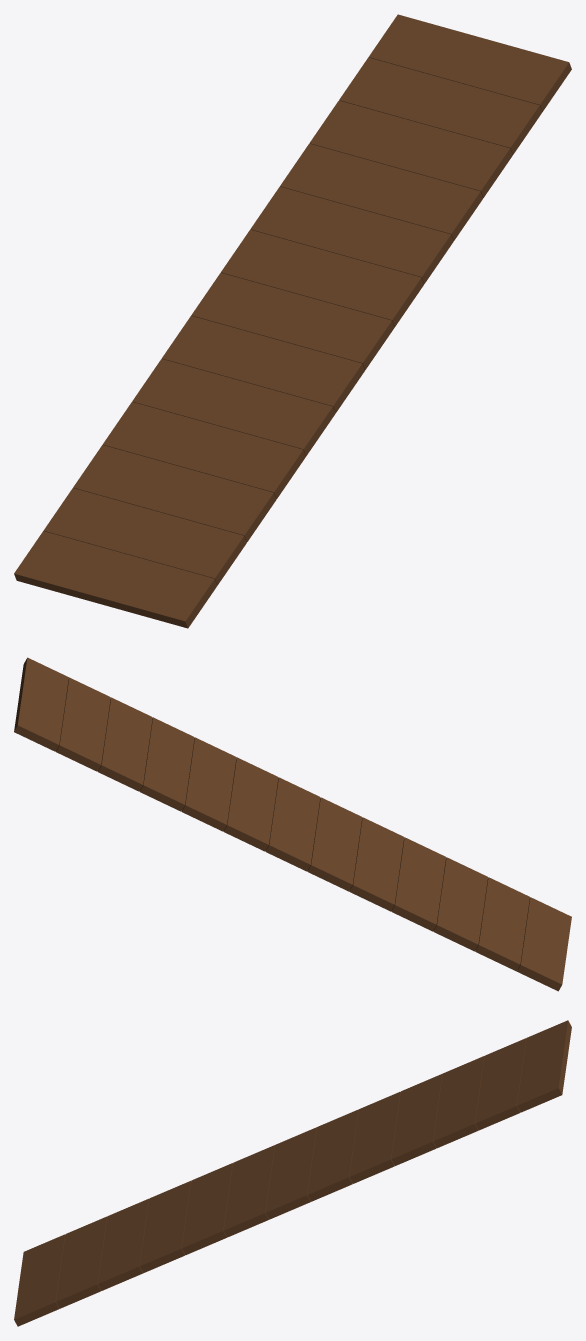
Rendered from Wooden_Stairs_003.fbx.
3 views of the same model, one above another, from view 1: azimuth 30°, elevation 25°; view 2: azimuth 150°, elevation 25°; view 3: azimuth 330°, elevation 25° (orthographic). The views are drawn at different scales.
Parts seen in each view (by area): view 1: Wooden Stairs.001; view 2: Wooden Stairs.001; view 3: Wooden Stairs.001.
Part boxes in pixels (x1=…): Wooden Stairs.001: x1=14, y1=14, x2=571, y2=628; Wooden Stairs.001: x1=14, y1=657, x2=571, y2=991; Wooden Stairs.001: x1=14, y1=1020, x2=571, y2=1326.
Size of the model in its own units: 8.4 by 4.15 by 5.81.
